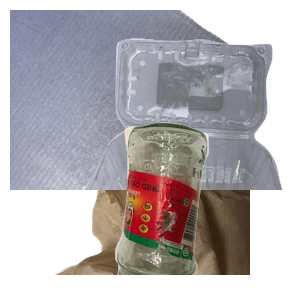cardboard: (10, 10, 250, 190)
glass: (112, 120, 300, 300)
plastic: (80, 36, 300, 216)
trash: (52, 120, 292, 300)
